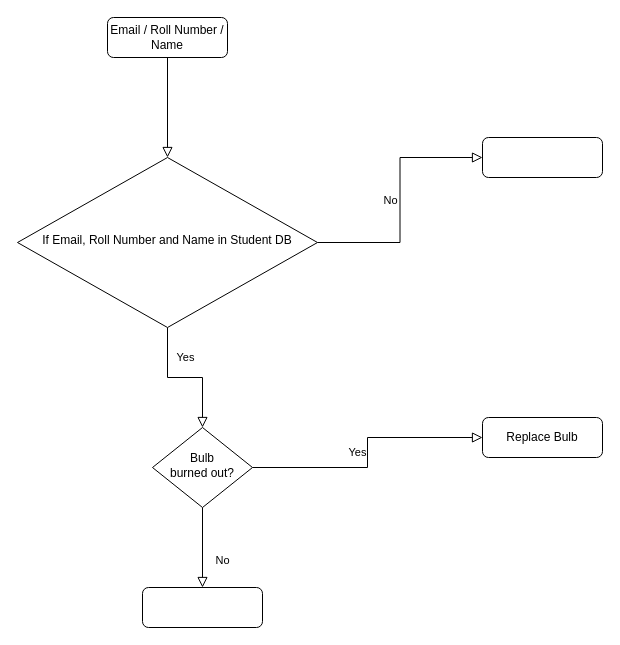
The diagram is 620 pixels wide and 645 high, and some of its shapes have lost their labels. The shapes that lost their labels are listed below. From the top down, each one's centre as x and y in pixels, then its label:
(542,157): Plug in lamp
(202,607): Repair Lamp
